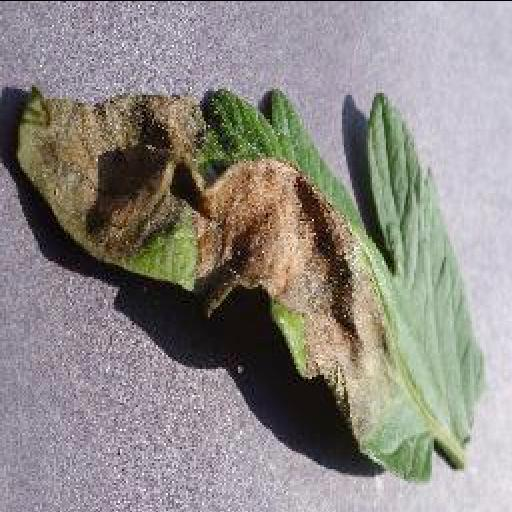disease_tomato: (18, 82, 484, 484)
